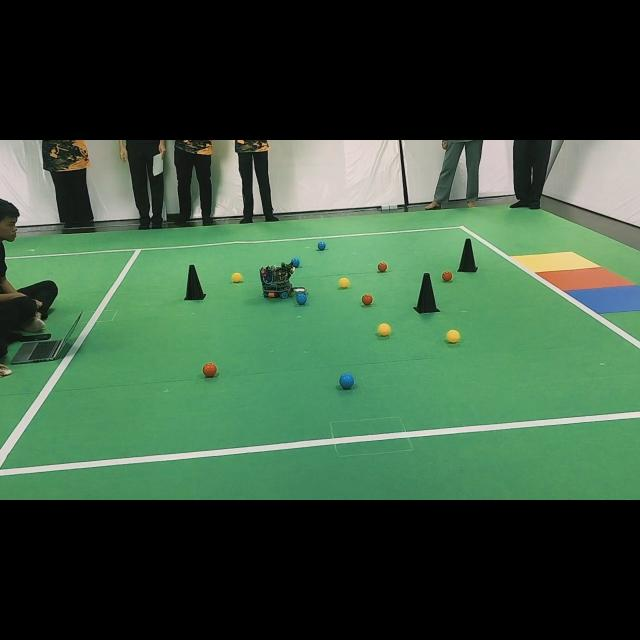ball: (568, 285, 640, 314), (339, 372, 355, 389), (202, 362, 218, 378), (378, 322, 391, 336), (446, 330, 460, 343), (361, 294, 374, 305), (296, 294, 308, 305), (339, 278, 350, 289), (231, 272, 242, 282), (378, 261, 388, 272), (441, 271, 452, 281), (291, 258, 300, 268), (318, 241, 326, 250)
goal: (538, 268, 635, 291), (512, 251, 600, 272)
